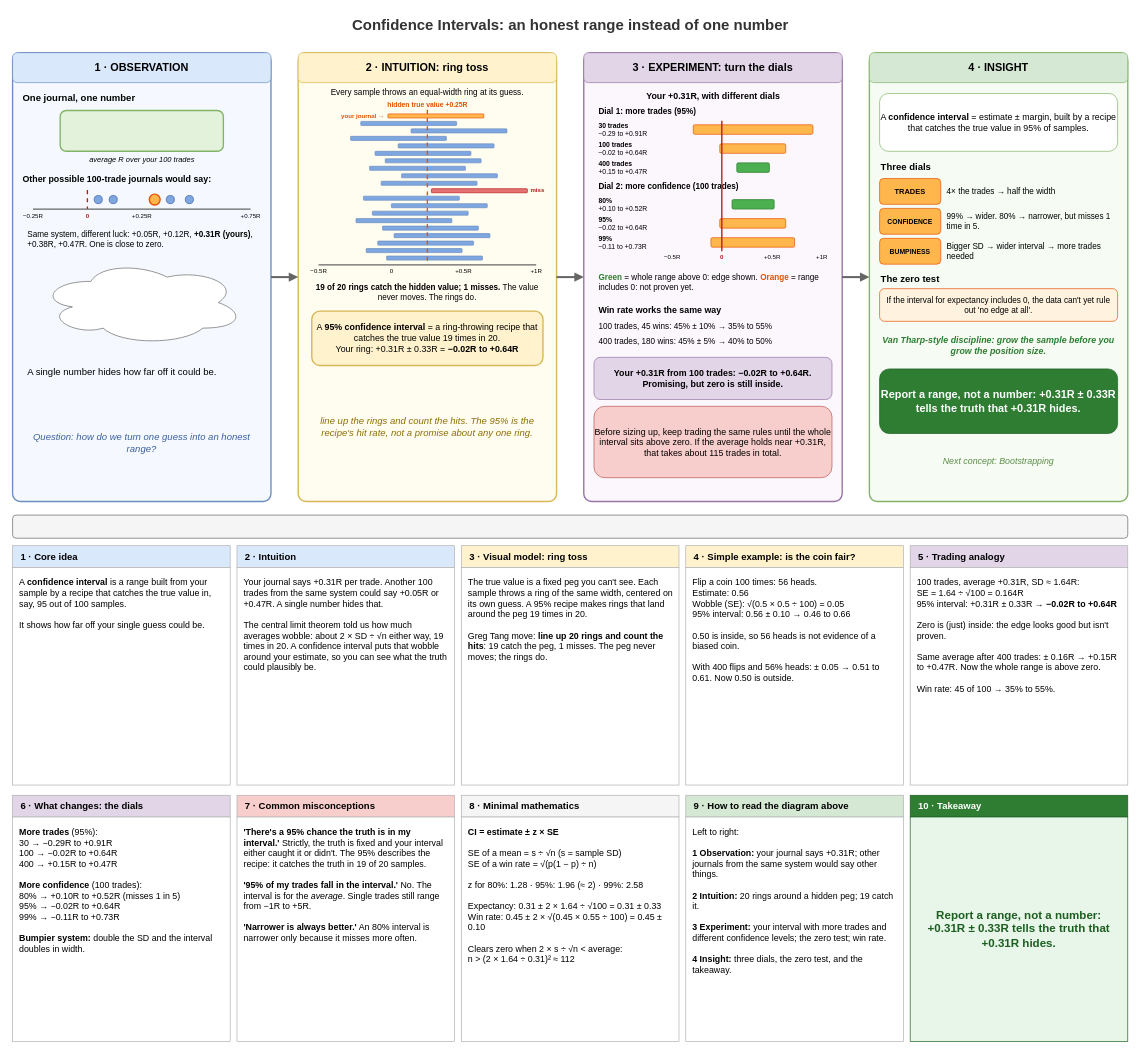
The diagram is 1140 pixels wide and 1053 high, and some of its shapes have lost their labels. The centre of each missing label's shape, as x and y in pixels:
"+0.31R" goes at point 141,130.
"+0.31R sounds good... but how sure can I be?" goes at point 141,302.
"LESSON NOTES: the full explanation, for future reference" goes at point 570,526.
